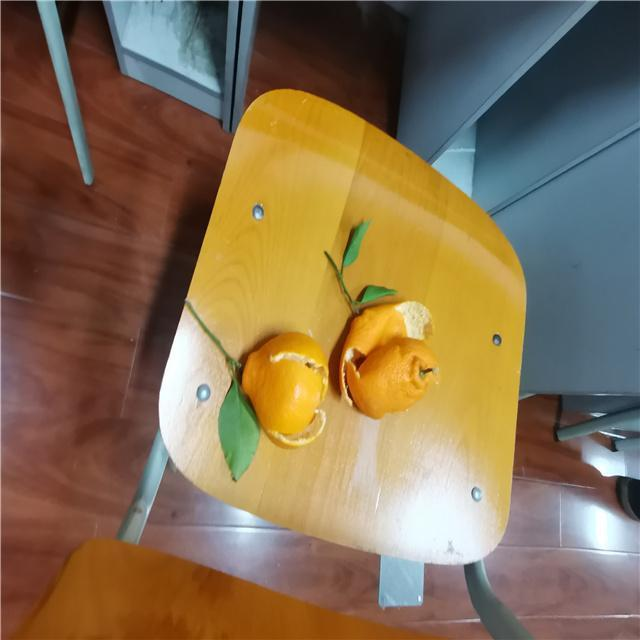orange peel: (328, 294, 440, 422), (240, 328, 326, 452)
